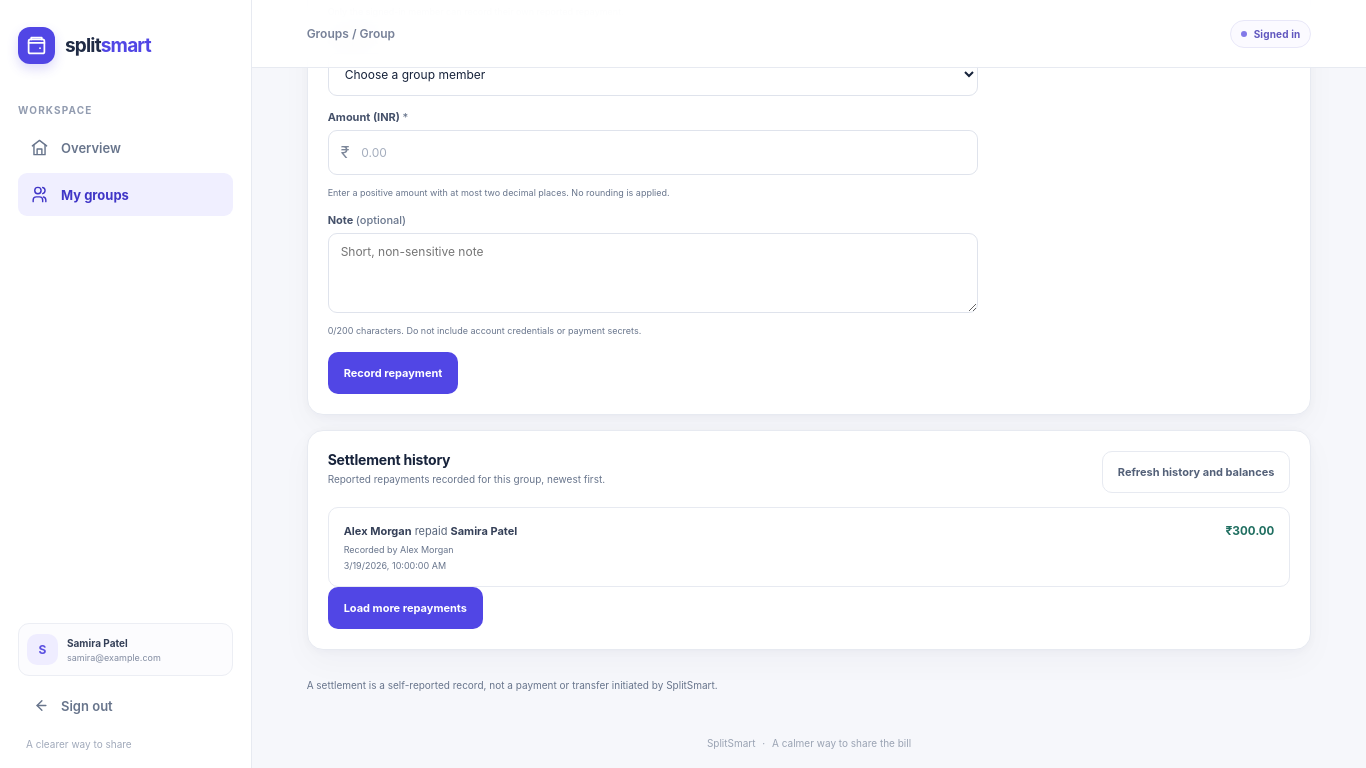
bounded repayment history › loads the next page once without recomputing authoritative balances
(page scrolled)
What coordinates should you click on to do the following:
click the button "Load more repayments"
I would click on:
 (405, 608)
Its box is top-left (328, 587), bottom-right (483, 629).
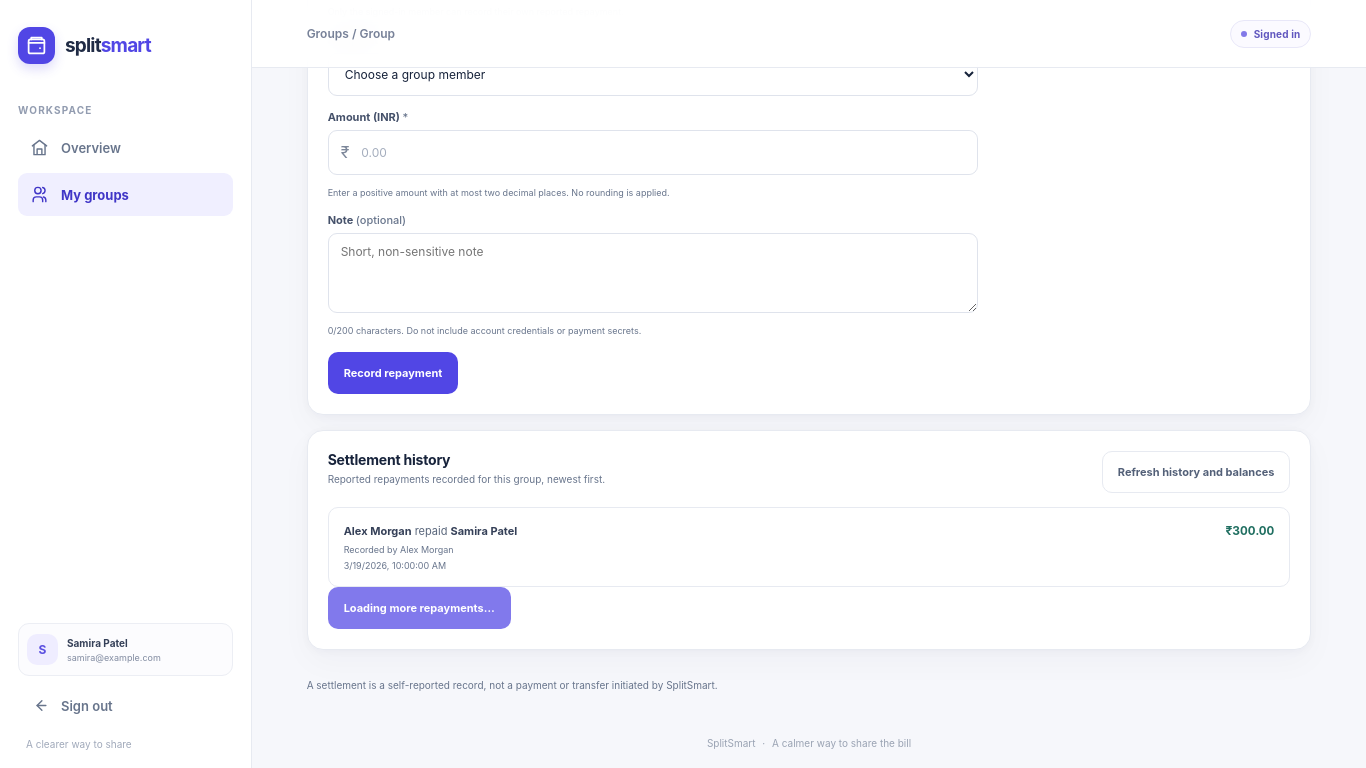
Check: the button named "Load more repayments" is disabled
What coordinates should you click on to do the following:
click the button named "Load more repayments"
I would click on:
 (419, 608)
Its box is top-left (328, 587), bottom-right (511, 629).
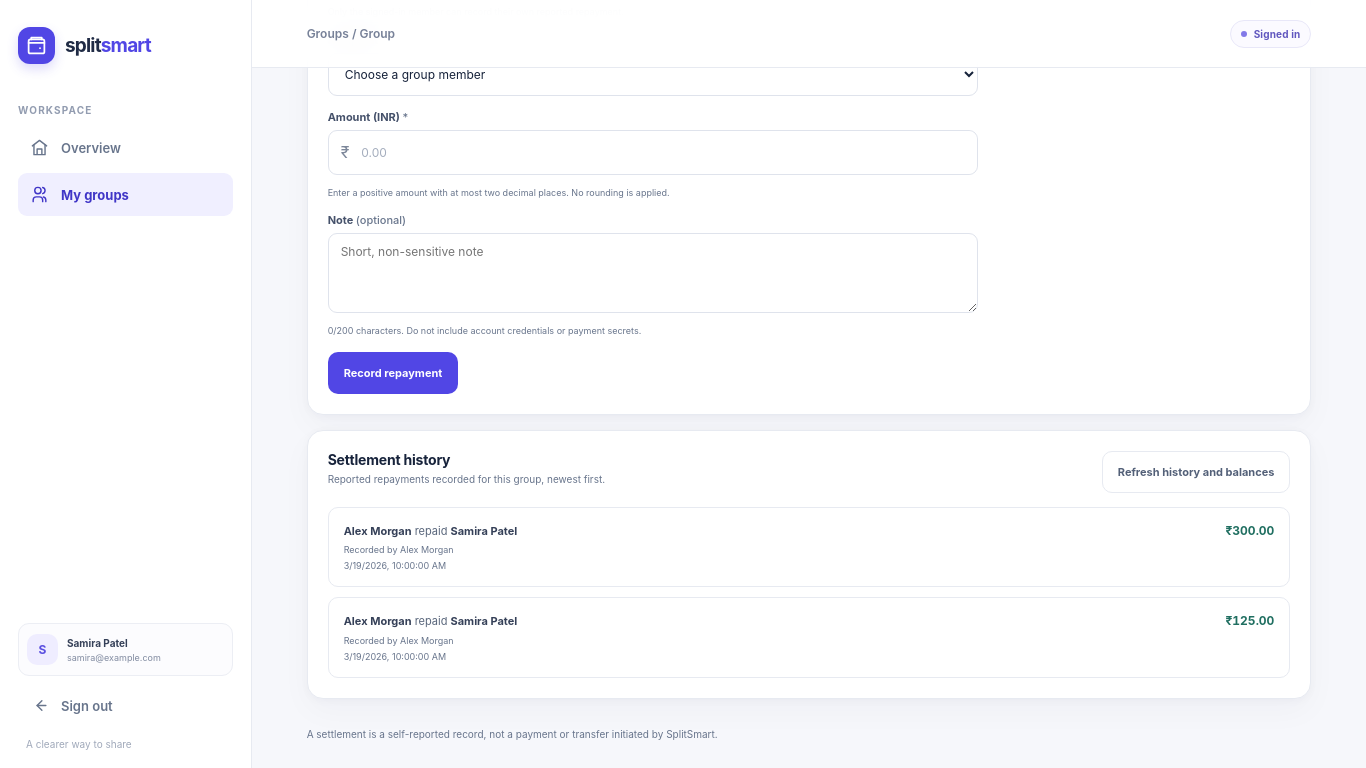
Check: the button "Load more repayments" is not shown
Check: the number of list items with class "settlement-history__item" is 2, box top-left (328, 507), bottom-right (1290, 587); top-left (328, 597), bottom-right (1290, 678)
